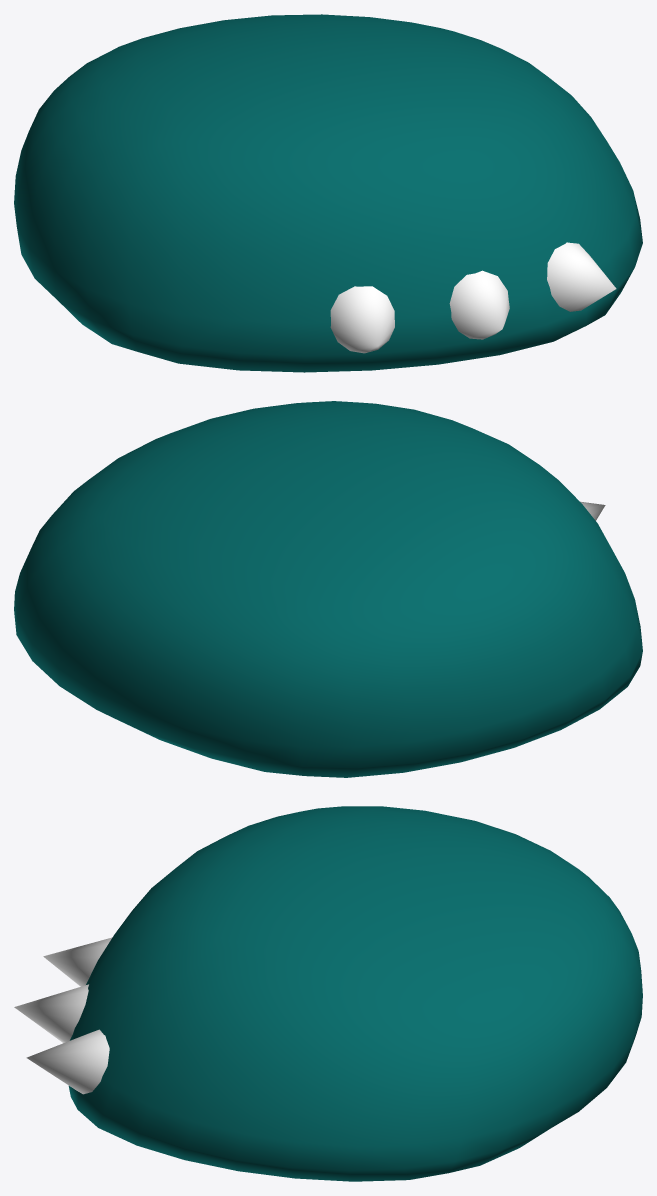
File: pieizquierdosnorlax.fbx
3 renders of one model, top to bottom at view 1: azimuth 30°, elevation 25°; view 2: azimuth 150°, elevation 25°; view 3: azimuth 270°, elevation 25°, orthographic. The views are drawn at different scales.
Parts seen in each view (by area): view 1: pieizquierdo; view 2: pieizquierdo; view 3: pieizquierdo.
Part boxes in pixels (bbox=[...]): pieizquierdo: bbox=[14, 14, 642, 372]; pieizquierdo: bbox=[14, 401, 642, 777]; pieizquierdo: bbox=[14, 806, 642, 1181].
Size of the model in its own units: 178 by 65.39 by 185.
